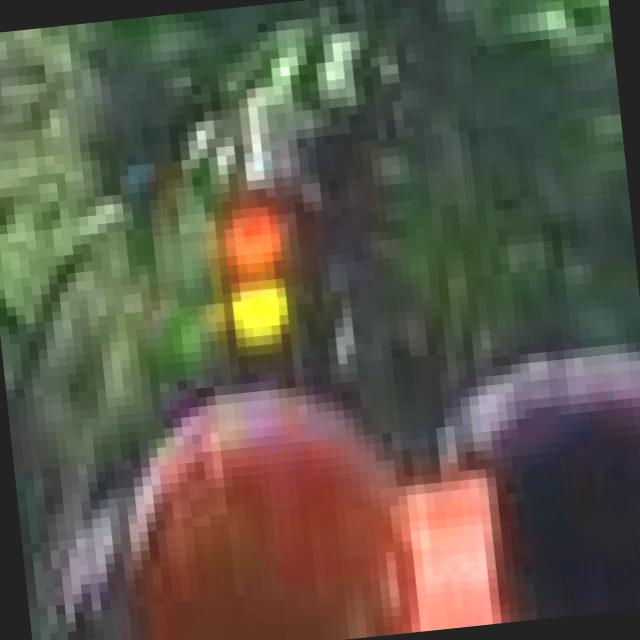Zolte swiatlo: (211, 175, 324, 404)
